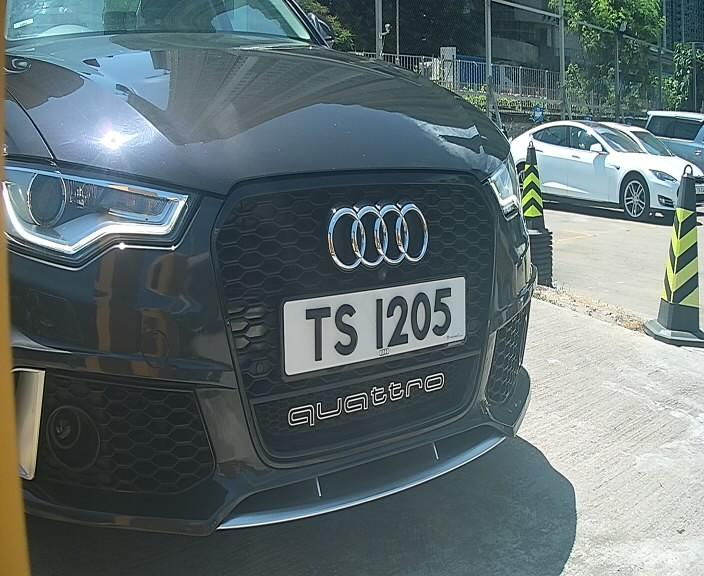privatecar: (1, 2, 551, 554)
